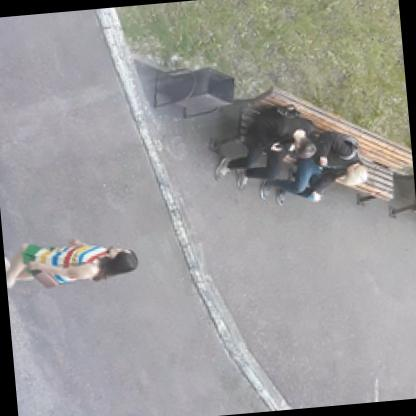Human Body: (2, 212, 148, 317), (249, 124, 374, 218), (201, 101, 322, 192)
